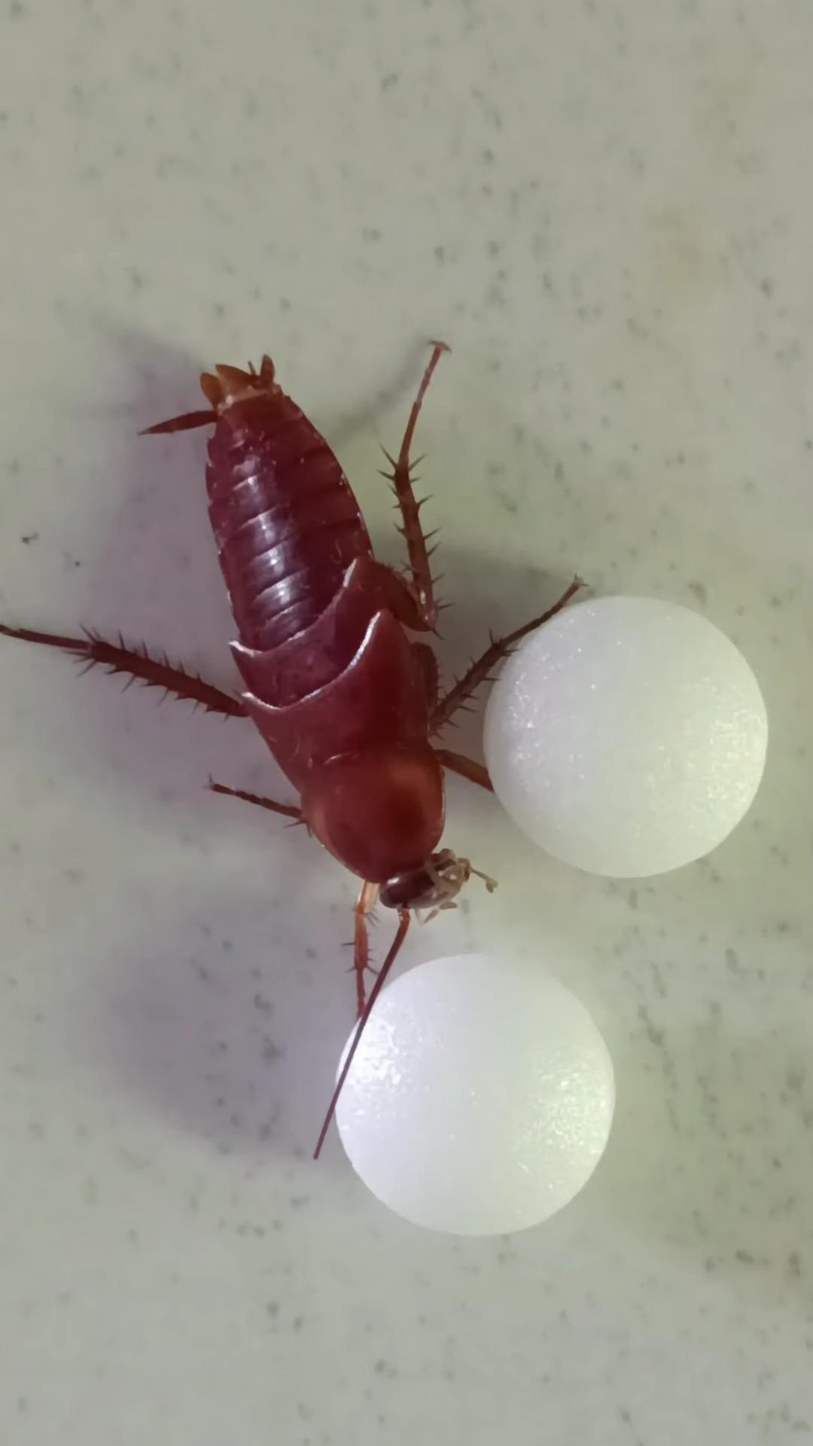cockroach: (0, 338, 454, 934)
